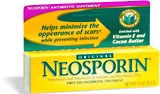grozi_19: (22, 0, 160, 94)
